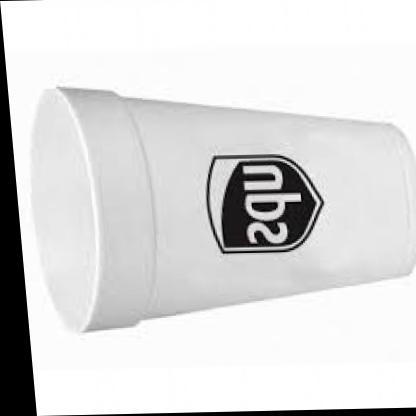trash: (32, 88, 415, 330)
